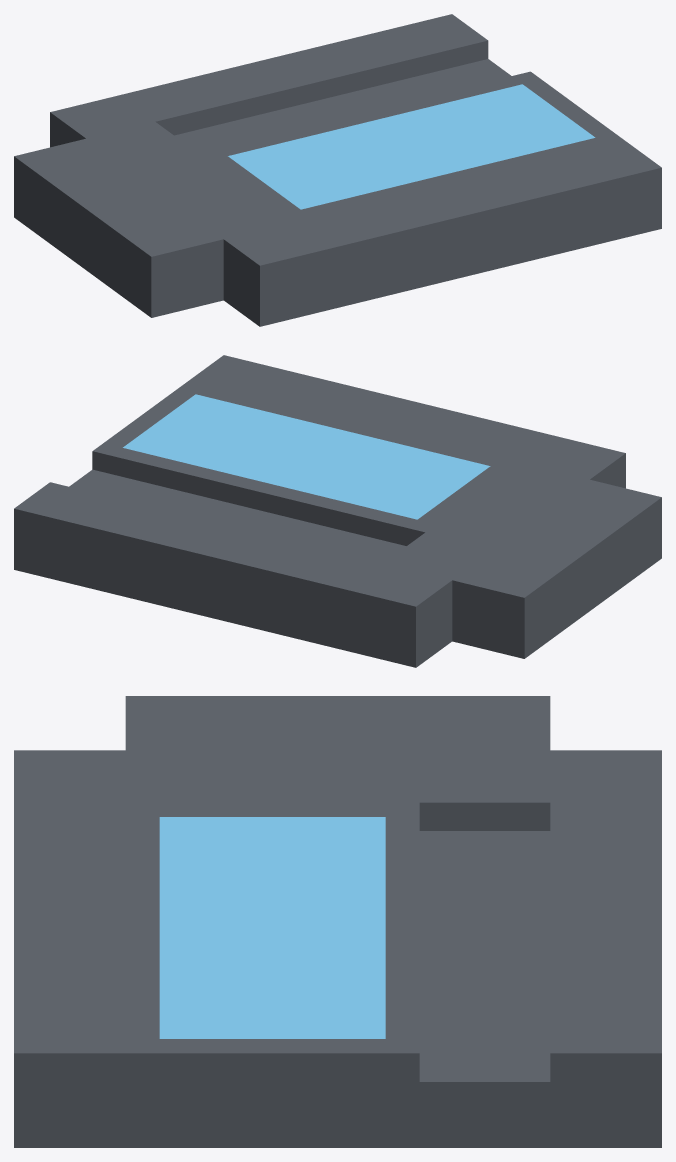
File: Game_cartridge_02.fbx
3 renders of one model, top to bottom at view 1: azimuth 30°, elevation 25°; view 2: azimuth 150°, elevation 25°; view 3: azimuth 270°, elevation 25°, orthographic. The views are drawn at different scales.
Visible parts, largest first — view 1: Plane.261; view 2: Plane.261; view 3: Plane.261.
Boxes of the visible parts, left/top/right/bottom form: Plane.261: left=14, top=14, right=661, bottom=326; Plane.261: left=14, top=355, right=661, bottom=667; Plane.261: left=14, top=696, right=661, bottom=1147.
Size of the model in its own units: 0.3778 by 0.2895 by 0.0466.
